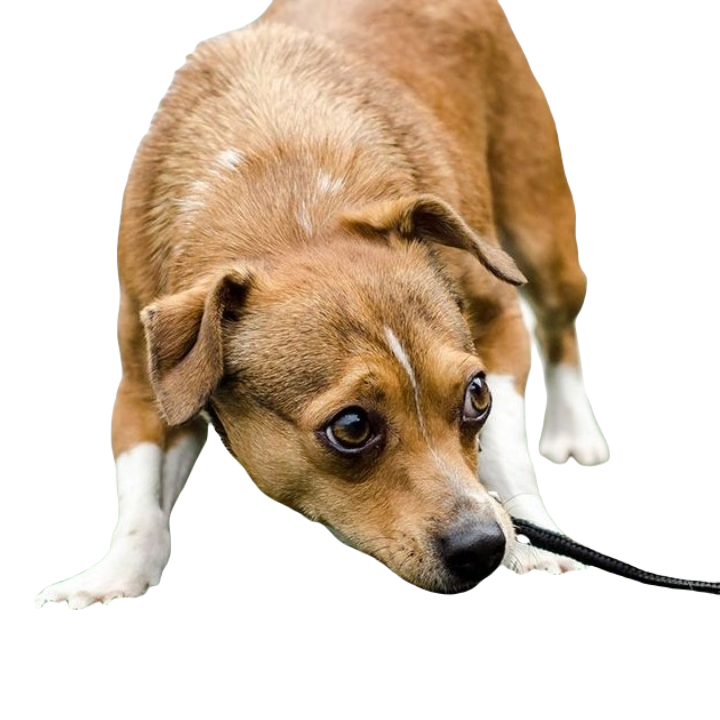Dog: (11, 0, 715, 614)
